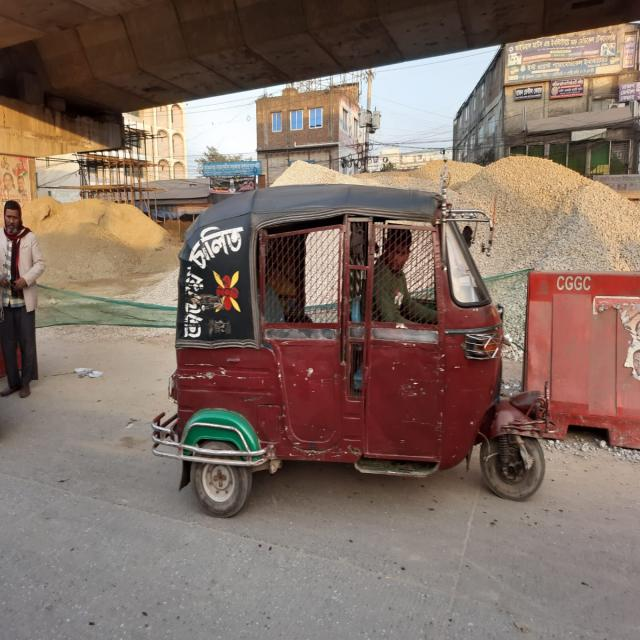cng: (157, 156, 574, 580)
